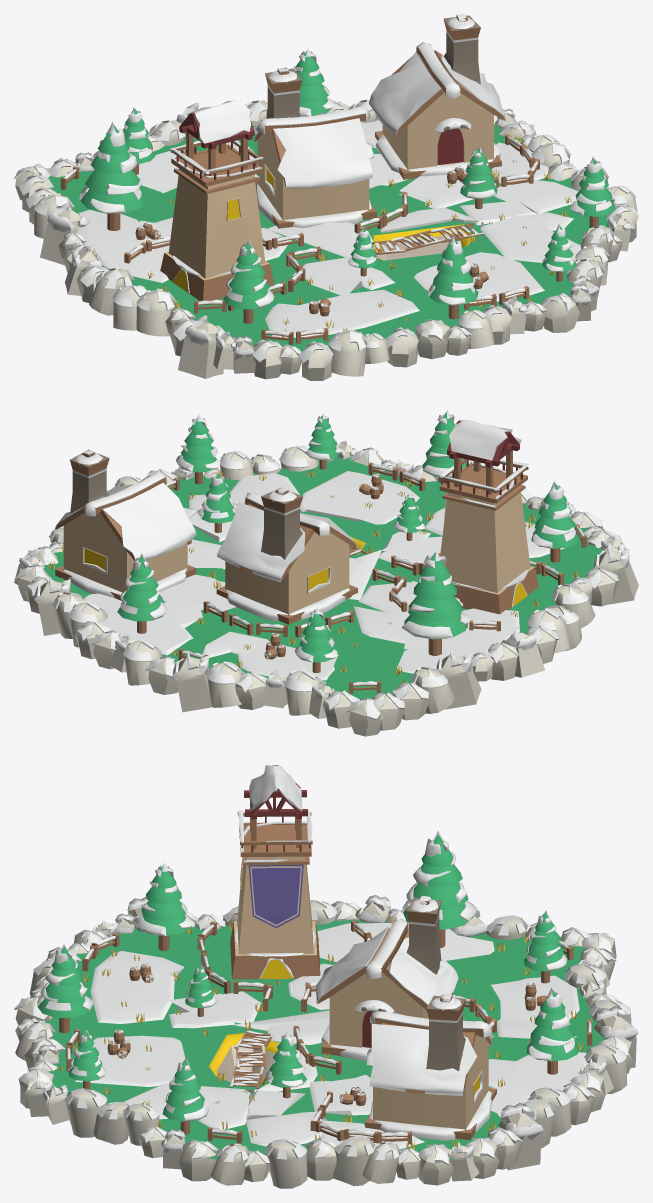
The model's file is stylized_snowy_diorama__low_poly_environment.glb.
3 renders of one model, top to bottom at view 1: azimuth 30°, elevation 25°; view 2: azimuth 150°, elevation 25°; view 3: azimuth 270°, elevation 25°, orthographic. The views are drawn at different scales.
Visible parts, largest first — view 1: Snow, Floor, Light_Tower, House_01_1, polySurface41, polySurface41_1, House_01, polySurface20, tree_1, tree, tree_7, rock04_3 (+27 smaller); view 2: Snow, Floor, Light_Tower, House_01, House_01_1, polySurface41_1, polySurface41, tree_1, polySurface20, tree_3, tree, rock04_6 (+38 smaller); view 3: Snow, Floor, Light_Tower, polySurface41_1, House_01_1, House_01, polySurface41, polySurface20, tree_1, tree, tree_7, tree_3 (+30 smaller).
Boxes of the visible parts, bbox=[...] form: Snow: bbox=[76, 116, 581, 337]; Floor: bbox=[48, 124, 628, 352]; Light_Tower: bbox=[160, 100, 274, 300]; House_01_1: bbox=[375, 15, 505, 179]; polySurface41: bbox=[254, 68, 373, 227]; polySurface41_1: bbox=[369, 14, 505, 178]; House_01: bbox=[254, 67, 376, 228]; polySurface20: bbox=[169, 100, 263, 293]; tree_1: bbox=[80, 124, 146, 230]; tree: bbox=[223, 242, 269, 323]; tree_7: bbox=[429, 238, 478, 319]; rock04_3: bbox=[178, 322, 223, 378]; Snow: bbox=[84, 471, 565, 680]; Floor: bbox=[44, 456, 603, 700]; Light_Tower: bbox=[439, 420, 538, 614]; House_01: bbox=[216, 488, 357, 624]; House_01_1: bbox=[55, 449, 196, 600]; polySurface41_1: bbox=[55, 450, 196, 597]; polySurface41: bbox=[217, 487, 357, 621]; tree_1: bbox=[404, 552, 466, 655]; polySurface20: bbox=[439, 419, 530, 606]; tree_3: bbox=[117, 556, 163, 633]; tree: bbox=[531, 483, 579, 562]; rock04_6: bbox=[176, 657, 212, 712]; Snow: bbox=[75, 923, 587, 1149]; Floor: bbox=[45, 919, 605, 1159]; Light_Tower: bbox=[230, 765, 320, 979]; polySurface41_1: bbox=[366, 994, 494, 1140]; House_01_1: bbox=[365, 995, 496, 1140]; House_01: bbox=[317, 897, 453, 1055]; polySurface41: bbox=[316, 895, 458, 1060]; polySurface20: bbox=[234, 765, 316, 978]; tree_1: bbox=[403, 834, 473, 947]; tree: bbox=[139, 864, 188, 950]; tree_7: bbox=[38, 946, 88, 1033]; tree_3: bbox=[526, 989, 578, 1074].
Size of what is drawn, in the model's own units: 50.29 by 21.36 by 50.85.
1 material, 1 textured.
